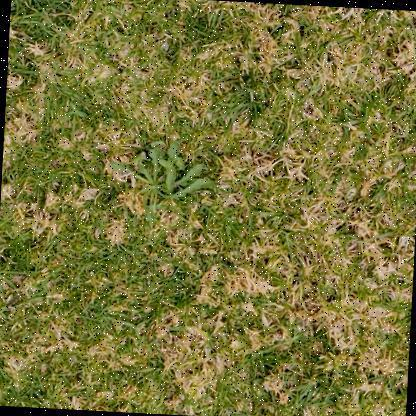Weeds: (107, 138, 215, 230)
